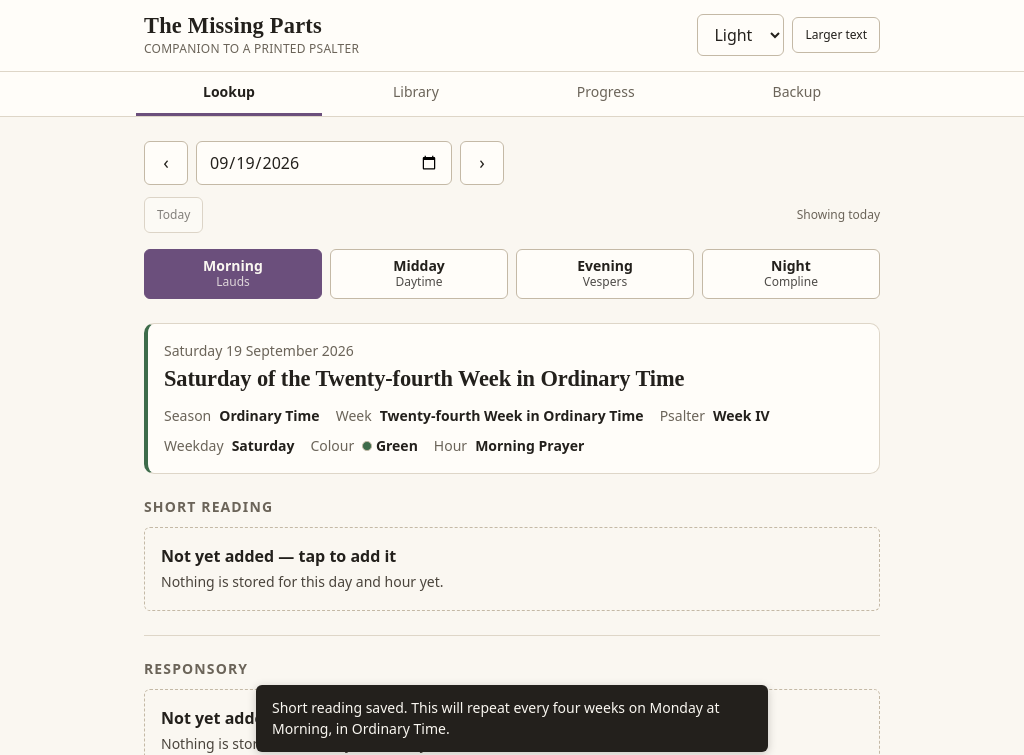
Test case: the library › asks for confirmation before deleting
Click the button "Library" at (416,94), box [326,72,506,116]
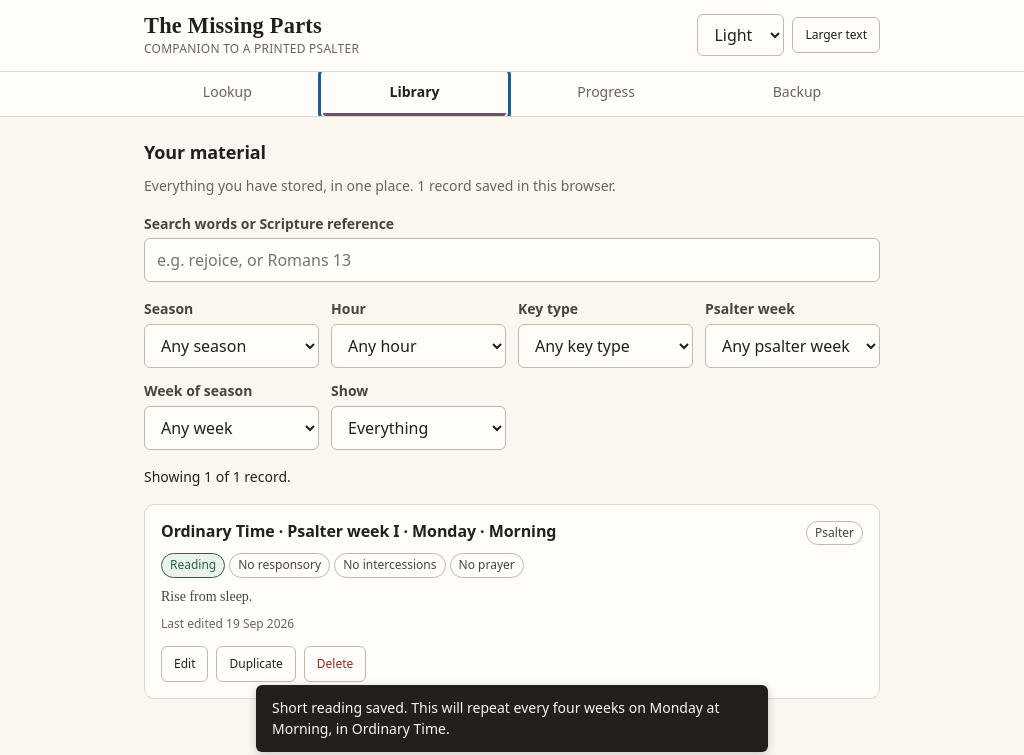
Click the button "Delete" at (335,664), box [304,646,366,682]
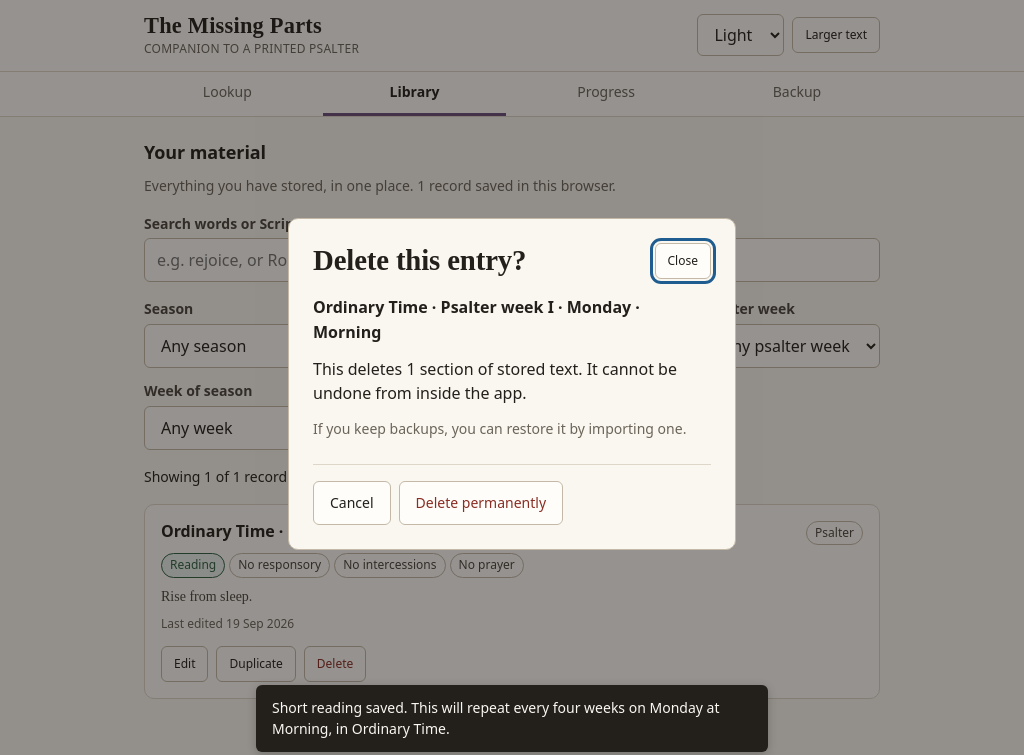
Check: the heading "Delete this entry?" is shown, box [313,243,526,279]
Click the button "Cancel" at (352,503), box [313,481,391,525]
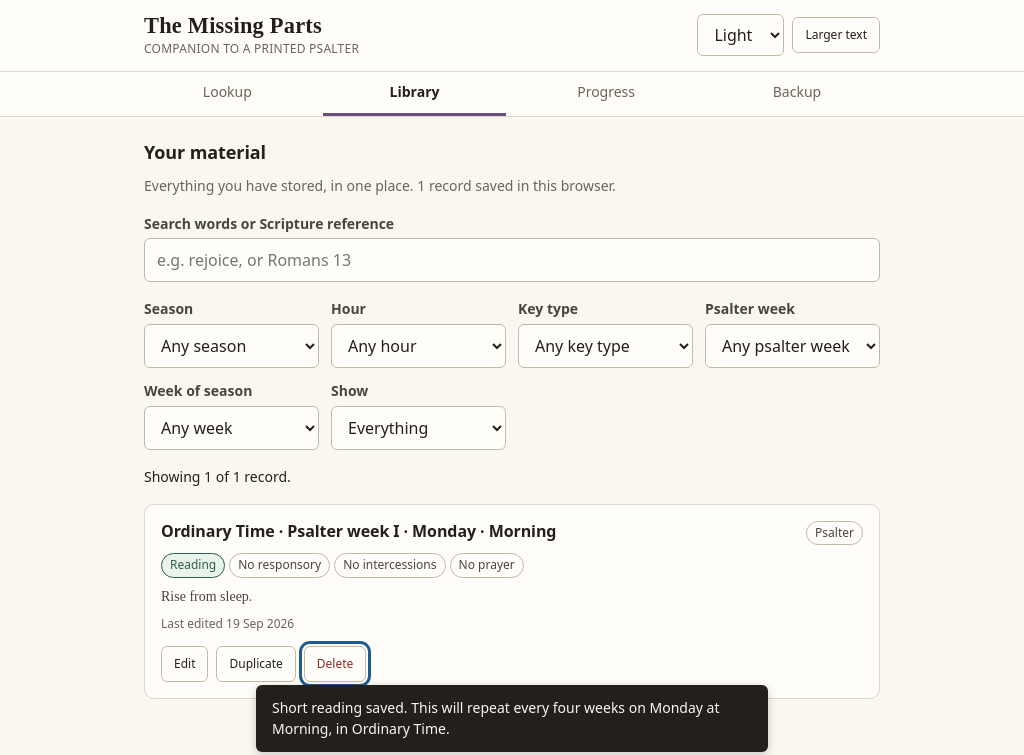
Check: the text "Showing 1 of 1 record." is shown, box [144,466,291,488]
Click the button "Delete" at (335,664), box [304,646,366,682]
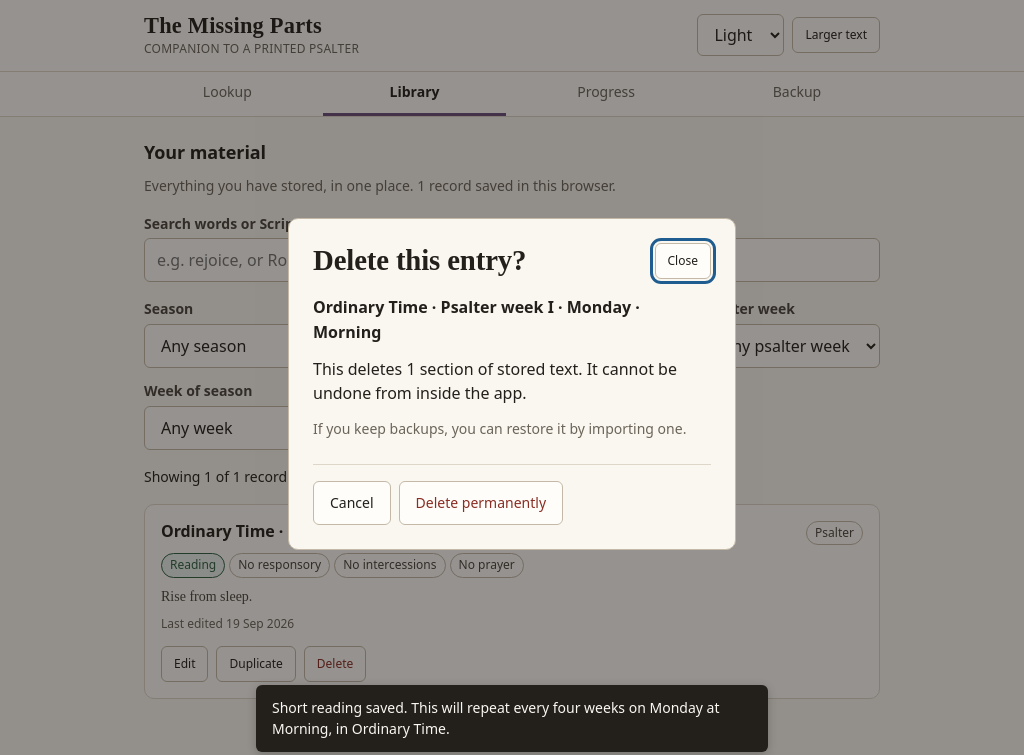
Click the button "Delete permanently" at (481,503), box [399,481,563,525]
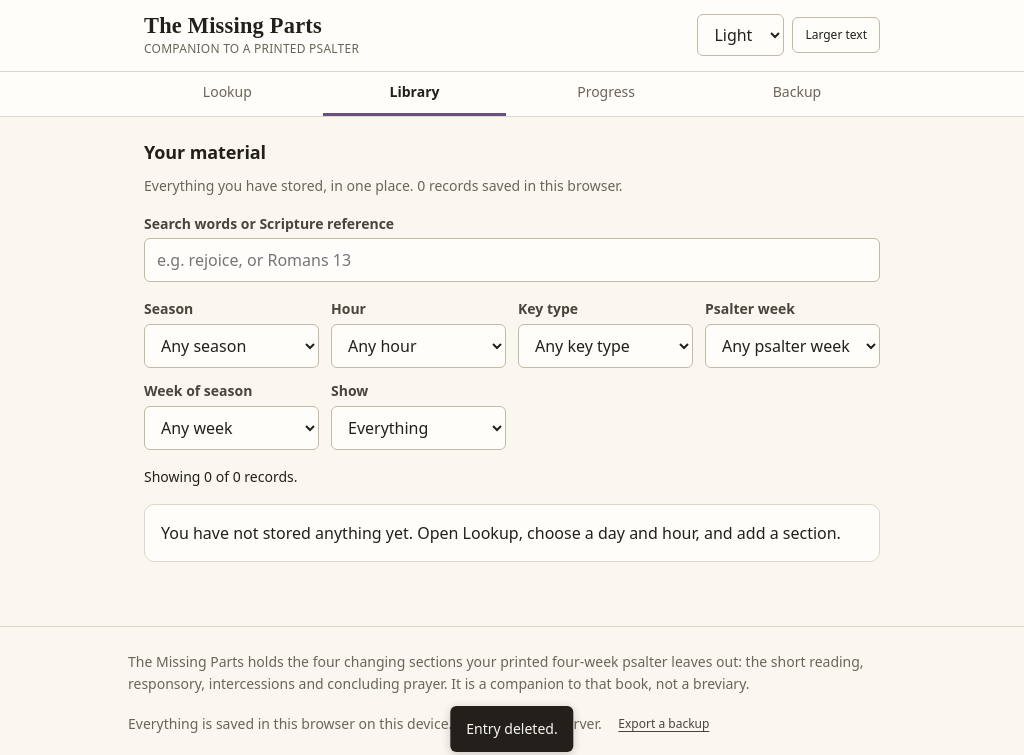
Check: the text "Showing 0 of 0 records." is shown, box [144,466,298,488]
